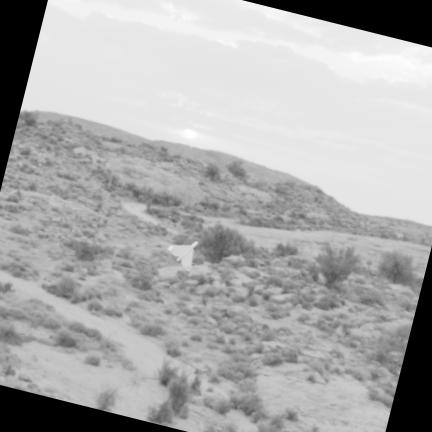Shahed: (167, 241, 197, 271)
